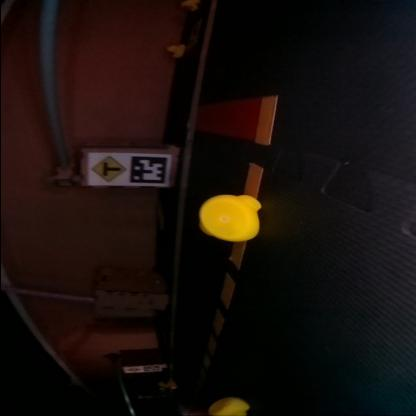Duckie: (198, 193, 260, 242), (206, 396, 248, 414), (166, 44, 184, 58), (180, 0, 198, 10), (164, 381, 176, 388)
Intersection sign: (88, 154, 126, 182)
QR code: (128, 155, 166, 183), (184, 20, 200, 48), (142, 365, 158, 371)
Stop sign: (124, 366, 140, 372)
